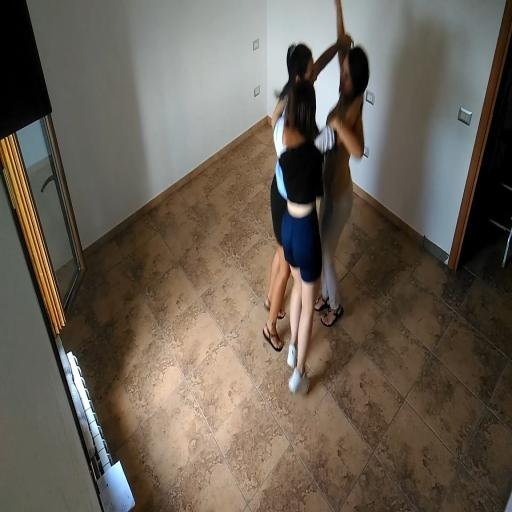nao-violencia: (237, 0, 378, 404)
